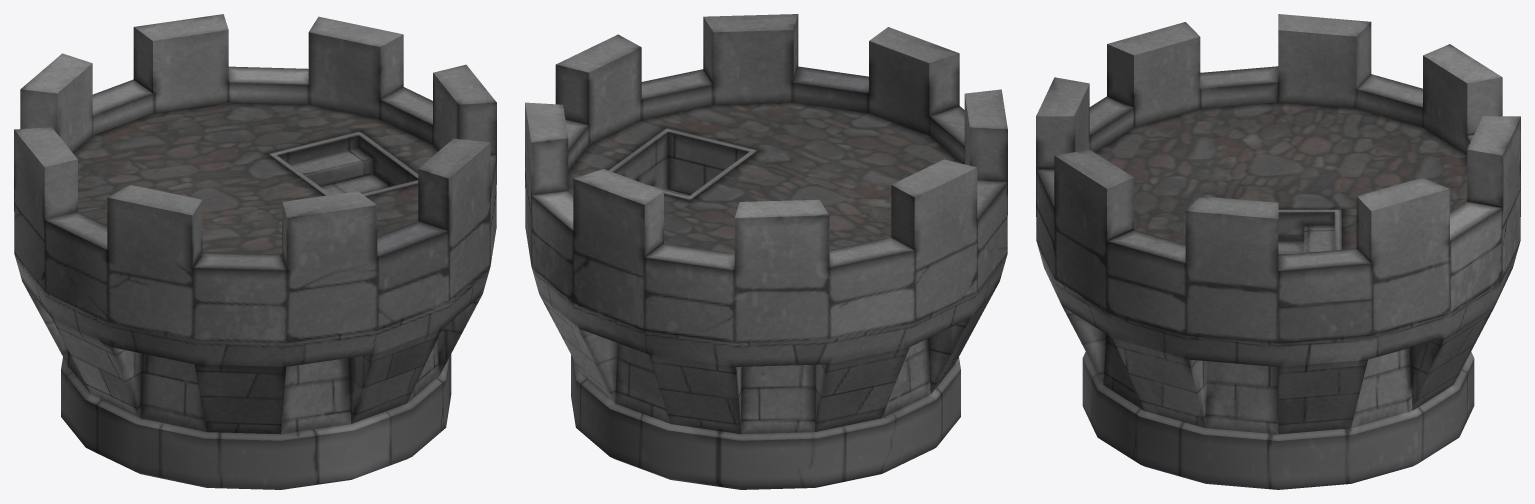
The model's file is sb_obj_outdoor002_DemonsCastle01_CircleWallTop02.fbx.
The picture shows the model from 3 angles, left to right: view 1: azimuth 30°, elevation 25°; view 2: azimuth 150°, elevation 25°; view 3: azimuth 270°, elevation 25°; orthographic projection.
Visible parts, largest first — view 1: sb_obj_outdoor002_DemonsCastle01_CircleWallTop02; view 2: sb_obj_outdoor002_DemonsCastle01_CircleWallTop02; view 3: sb_obj_outdoor002_DemonsCastle01_CircleWallTop02.
Boxes of the visible parts, bbox=[...] form: sb_obj_outdoor002_DemonsCastle01_CircleWallTop02: bbox=[14, 14, 496, 489]; sb_obj_outdoor002_DemonsCastle01_CircleWallTop02: bbox=[525, 14, 1007, 489]; sb_obj_outdoor002_DemonsCastle01_CircleWallTop02: bbox=[1036, 14, 1520, 489].
Bounding box in the file's own units: 3.83 × 2.55 × 3.83.
